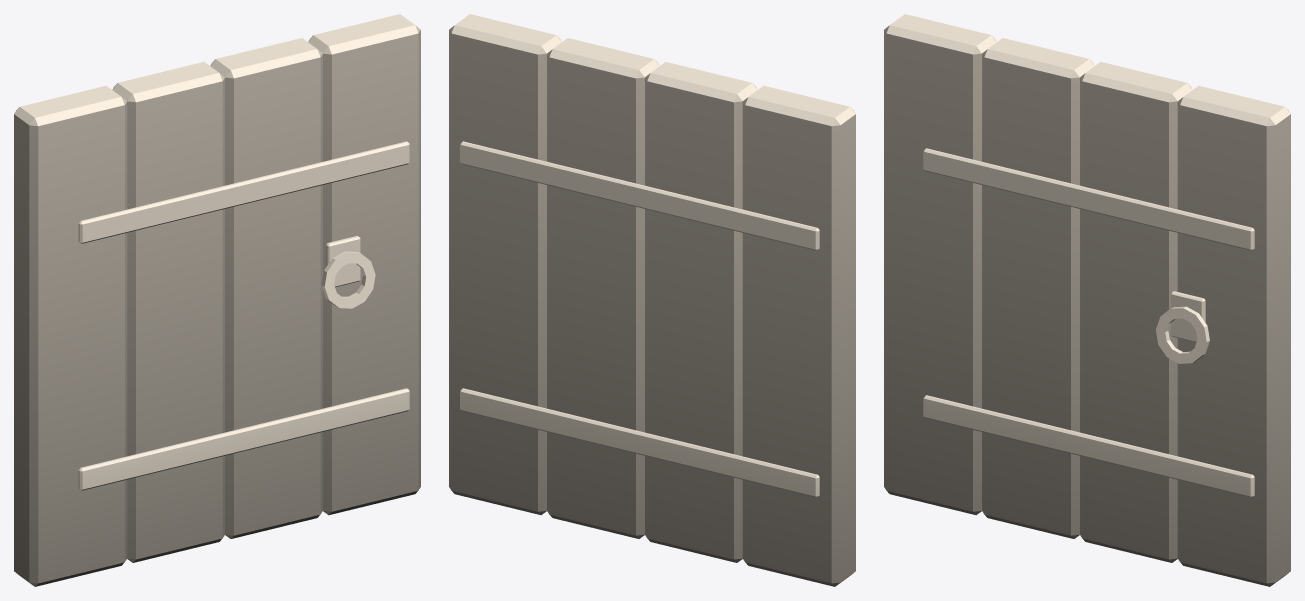
File: SM_VKI_Leaf_Plank_Cut.fbx
The picture shows the model from 3 angles, left to right: view 1: azimuth 30°, elevation 25°; view 2: azimuth 150°, elevation 25°; view 3: azimuth 330°, elevation 25°; orthographic projection.
Visible parts, largest first — view 1: SM_VKI_Leaf_Plank_Cut.001; view 2: SM_VKI_Leaf_Plank_Cut.001; view 3: SM_VKI_Leaf_Plank_Cut.001.
Part boxes in pixels (x1,y1,x2,y2): SM_VKI_Leaf_Plank_Cut.001: [14, 14, 420, 586]; SM_VKI_Leaf_Plank_Cut.001: [449, 14, 855, 586]; SM_VKI_Leaf_Plank_Cut.001: [884, 14, 1290, 586].
Size of the model in its own units: 0.83 by 0.95 by 0.1309.
